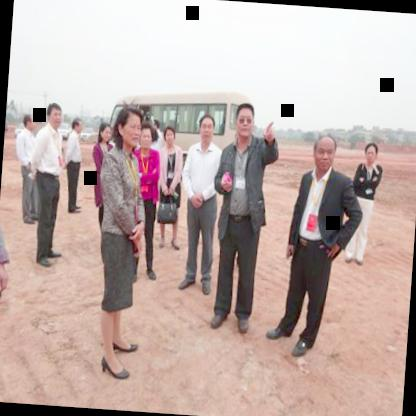head: (113, 102, 144, 148), (310, 129, 338, 174), (233, 100, 258, 145), (134, 121, 155, 156), (44, 100, 64, 134), (197, 112, 217, 145), (363, 140, 382, 168), (96, 120, 114, 148), (68, 115, 86, 140), (162, 123, 178, 147), (20, 112, 36, 135)
